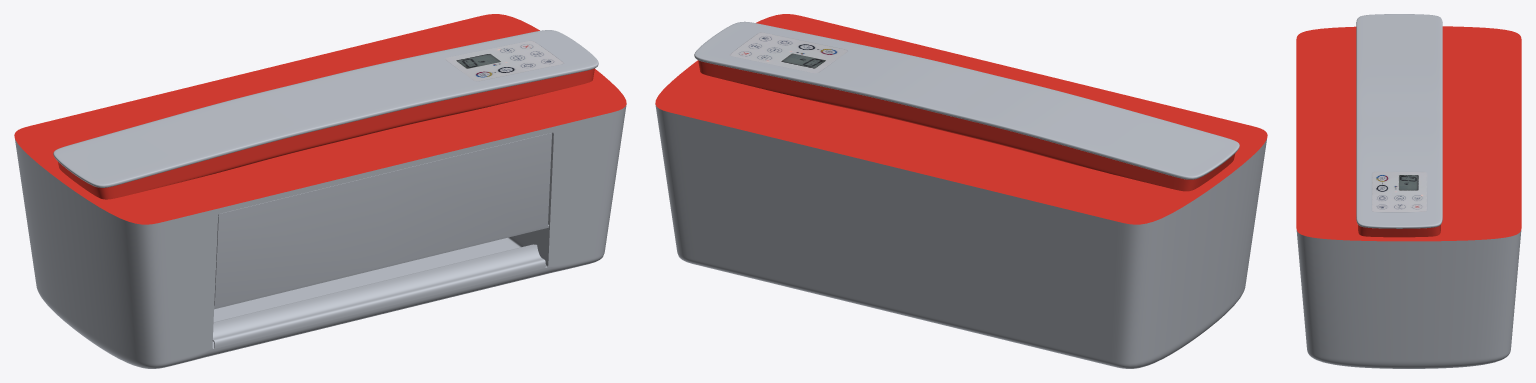
3 views of the same model, side by side, from view 1: azimuth 30°, elevation 25°; view 2: azimuth 150°, elevation 25°; view 3: azimuth 270°, elevation 25° (orthographic). The views are drawn at different scales.
Visible parts, largest first — view 1: Base, PrinterCover; view 2: Base; view 3: Base.
Boxes of the visible parts, <box> form: Base: <box>14,14,626,368</box>; PrinterCover: <box>214,133,551,309</box>; Base: <box>655,14,1267,368</box>; Base: <box>1296,14,1521,368</box>.
Size of the model in its own units: 0.4008 by 0.138 by 0.177.
4 materials, 1 textured.
